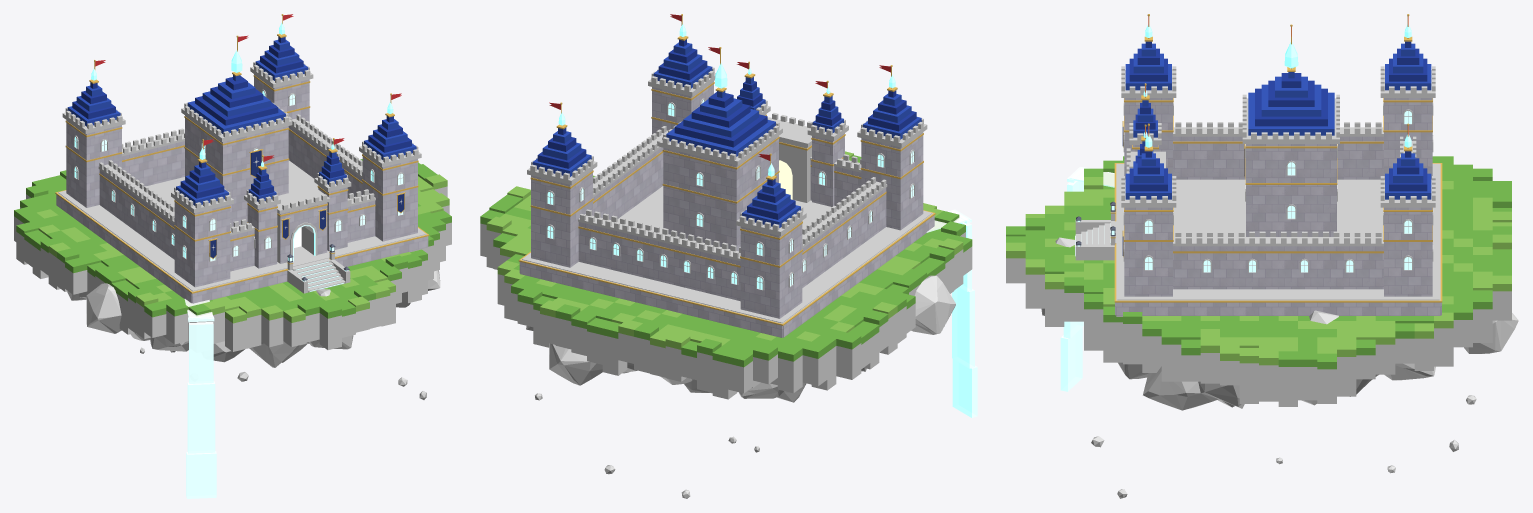
File: Lobby_FloatingCastle.fbx
3 renders of one model, left to right at view 1: azimuth 30°, elevation 25°; view 2: azimuth 150°, elevation 25°; view 3: azimuth 270°, elevation 25°, orthographic. The views are drawn at different scales.
Visible parts, largest first — view 1: Tex_castle_brick__Castle, IslandRock__Island, GroundGreen__Island, Marble__Castle, GroundGreenLight__Island, Tex_castle_brick__Keep, Marble__Platform, Tex_castle_brick__Platform, Gold__Castle, WaterfallCyan__Fall_1, RoofBlue__Keep_Roof, RoofBlueDark__Keep_Roof (+16 smaller); view 2: Tex_castle_brick__Castle, IslandRock__Island, GroundGreen__Island, Marble__Castle, Tex_castle_brick__Keep, GroundGreenLight__Island, Marble__Platform, Tex_castle_brick__Platform, Gold__Castle, RoofBlue__Keep_Roof, RoofBlueDark__Keep_Roof, WaterfallCyan__Fall_1 (+16 smaller); view 3: Tex_castle_brick__Castle, IslandRock__Island, GroundGreen__Island, GroundGreenLight__Island, Marble__Platform, Marble__Castle, Tex_castle_brick__Keep, Tex_castle_brick__Platform, RoofBlue__Keep_Roof, Gold__Castle, RoofBlueDark__Keep_Roof, Marble__Keep (+12 smaller).
Part boxes in pixels (x1,y1,x2,y2): Tex_castle_brick__Castle: (66, 74, 417, 287); IslandRock__Island: (14, 186, 451, 386); GroundGreen__Island: (14, 159, 451, 318); Marble__Castle: (62, 62, 421, 261); GroundGreenLight__Island: (37, 174, 449, 323); Tex_castle_brick__Keep: (185, 115, 288, 226); Marble__Platform: (58, 160, 426, 291); Tex_castle_brick__Platform: (56, 194, 428, 303); Gold__Castle: (65, 75, 418, 259); WaterfallCyan__Fall_1: (187, 381, 215, 453); RoofBlue__Keep_Roof: (187, 75, 285, 133); RoofBlueDark__Keep_Roof: (195, 76, 278, 125); Tex_castle_brick__Castle: (531, 81, 923, 318); IslandRock__Island: (480, 223, 972, 402); GroundGreen__Island: (480, 155, 972, 367); Marble__Castle: (527, 67, 927, 290); Tex_castle_brick__Keep: (663, 136, 778, 251); GroundGreenLight__Island: (486, 151, 963, 349); Marble__Platform: (522, 186, 932, 322); Tex_castle_brick__Platform: (519, 215, 934, 337); Gold__Castle: (530, 61, 923, 267); RoofBlue__Keep_Roof: (666, 91, 775, 156); RoofBlueDark__Keep_Roof: (674, 92, 767, 147); WaterfallCyan__Fall_1: (952, 287, 974, 368); Tex_castle_brick__Castle: (1124, 98, 1432, 296); IslandRock__Island: (1006, 237, 1518, 447); GroundGreen__Island: (1006, 156, 1511, 369); GroundGreenLight__Island: (1006, 177, 1511, 365); Marble__Platform: (1117, 163, 1439, 300); Marble__Castle: (1121, 66, 1435, 272); Tex_castle_brick__Keep: (1246, 144, 1336, 236); Tex_castle_brick__Platform: (1115, 302, 1441, 315); RoofBlue__Keep_Roof: (1248, 72, 1334, 135); Gold__Castle: (1122, 83, 1432, 256); RoofBlueDark__Keep_Roof: (1255, 73, 1327, 126); Marble__Keep: (1242, 94, 1339, 219).
Bounding box in the file's own units: 159 × 148 × 158.
